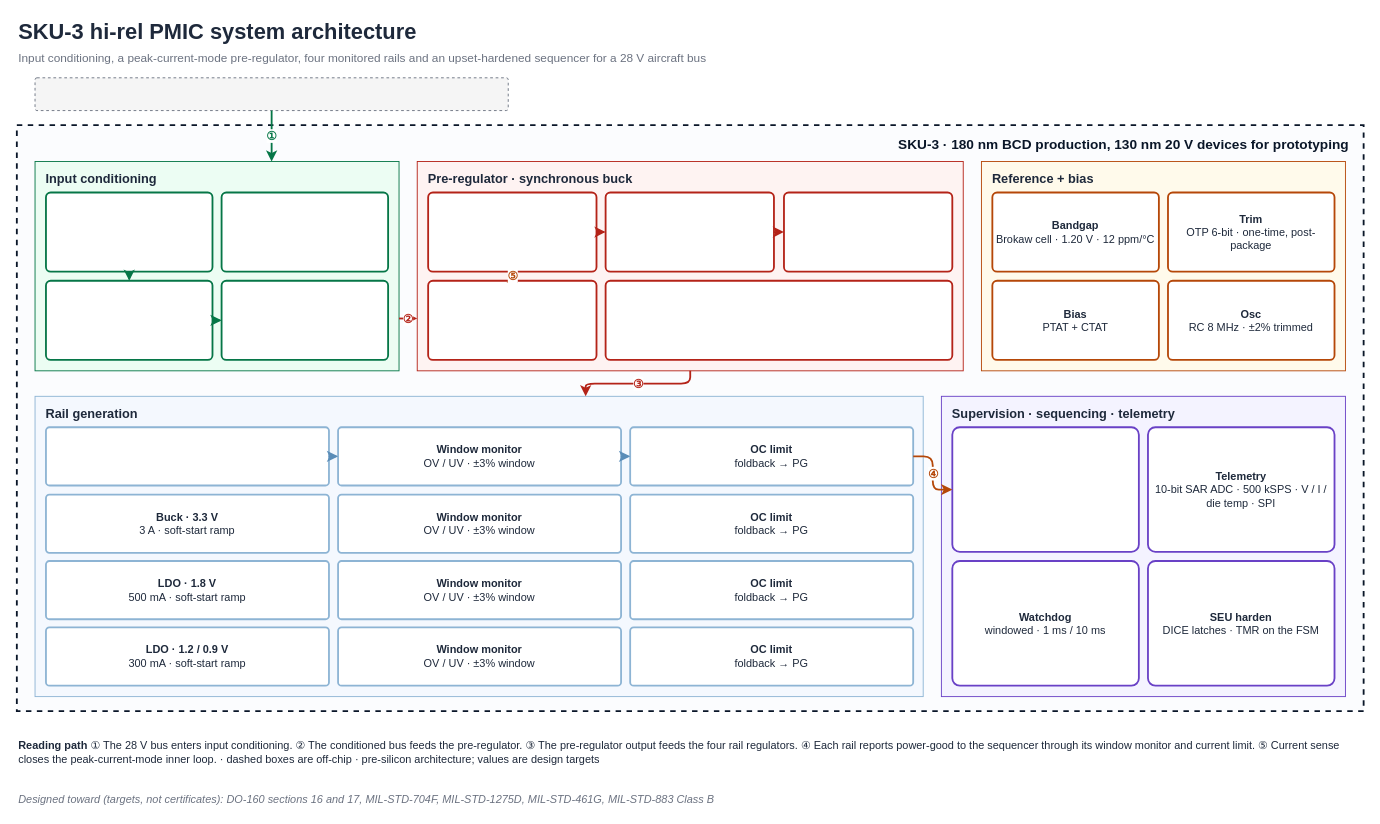
Image size: 1380x824. Some labels were removed from this diagram. The centre of each missing label's shape, as x and y in pixels:
28 V aircraft bus: the point at 271,94
Buck · 5 V 2 A · soft-start ramp: the point at 187,456
Current sense sense-FET + amp · cycle-by-cycle limit: the point at 512,319
EMI + TVS CM choke + pi · clamp 36 V: the point at 129,231
Error amp type-III comp · 60 dB DC: the point at 512,231
Gate driver adaptive dead-time · 20 ns non-overlap: the point at 868,231
Ideal diode reverse polarity · back-to-back LDMOS: the point at 304,231
Inrush soft-start FET · dI/dt limited: the point at 129,319
Power stage LDMOS half-bridge: the point at 778,319
PWM comp + slope comp · 500 kHz to 2 MHz: the point at 689,231
Sequencer programmable 4-step order · FSM + delay counter · TMR: the point at 1045,489
UVLO + OVLO 18 V / 34 V · hysteretic: the point at 304,319
